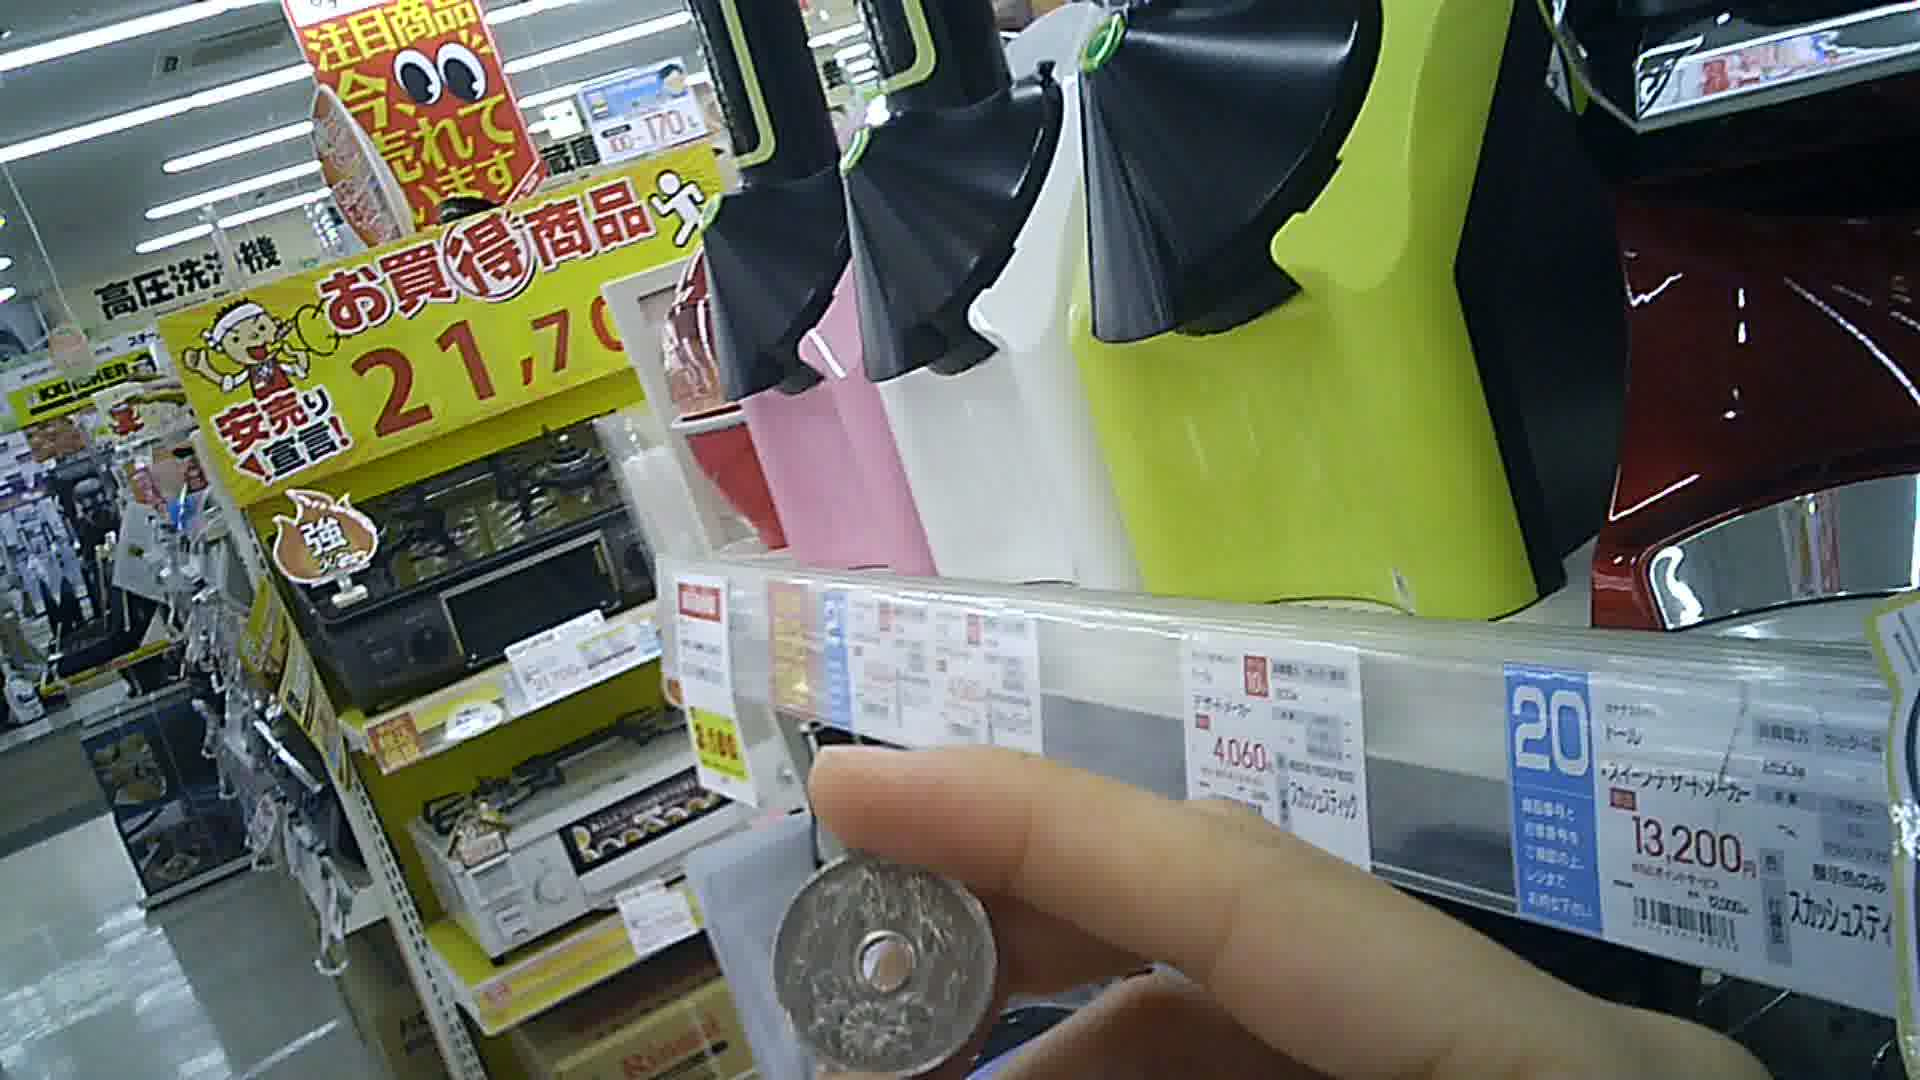50 Yen: (760, 841, 1007, 1077)
